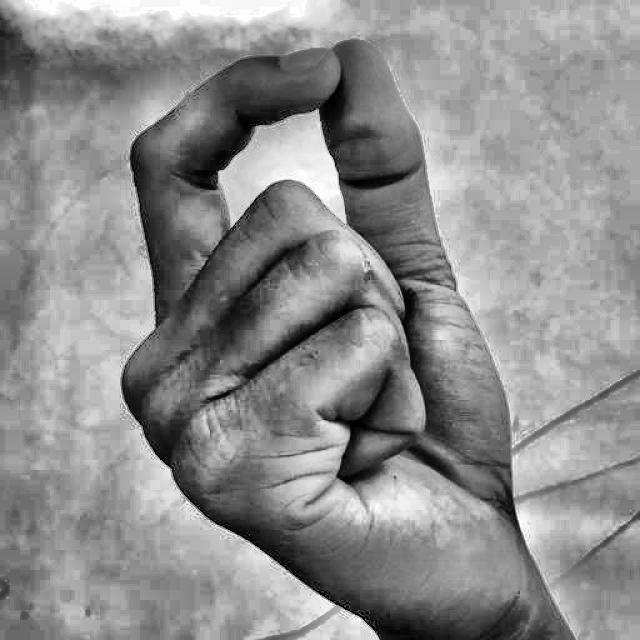Gha: (79, 24, 574, 634)
